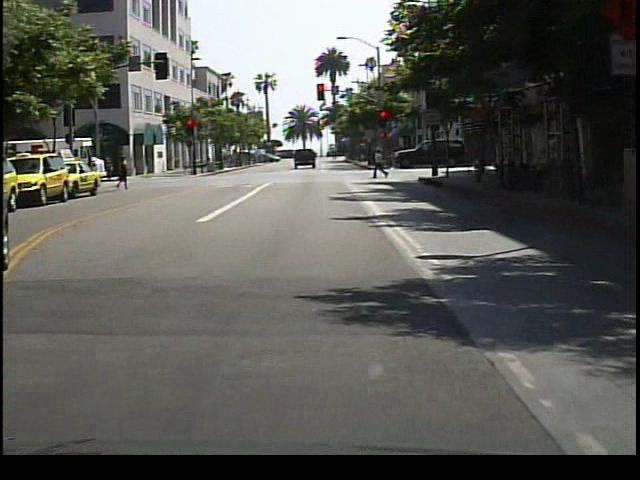person: (470, 138, 490, 182), (373, 147, 391, 181), (116, 157, 132, 192)
